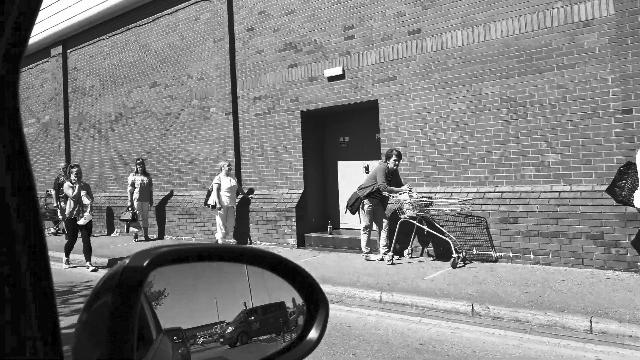berdiri: (342, 142, 412, 268), (204, 158, 244, 252), (122, 154, 160, 248)
